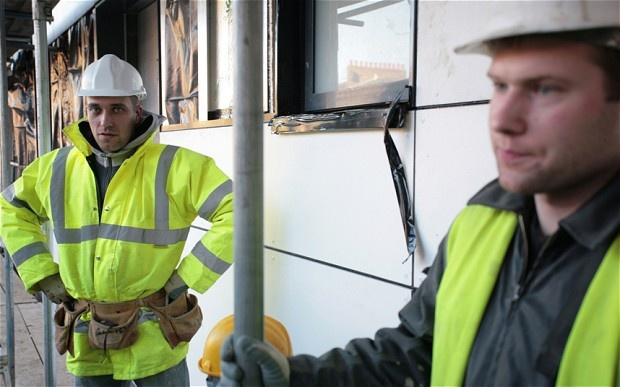white: (482, 3, 616, 200), (77, 51, 146, 151)
